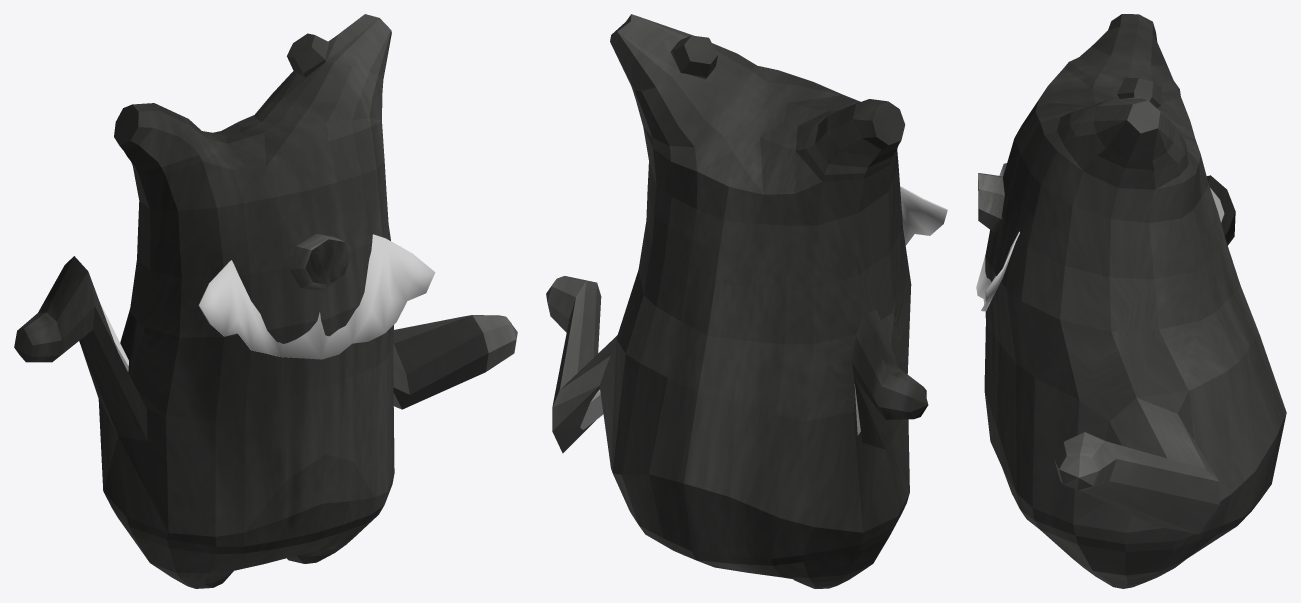
Rendered from frame_0051.obj.
3 renders of one model, left to right at view 1: azimuth 30°, elevation 25°; view 2: azimuth 150°, elevation 25°; view 3: azimuth 270°, elevation 25°, orthographic. The views are drawn at different scales.
Parts seen in each view (by area): view 1: korok, leaf, nose; view 2: korok, leaf; view 3: korok, nose, leaf.
Boxes of the visible parts, bbox=[...] form: korok: bbox=[14, 14, 517, 588]; leaf: bbox=[198, 234, 435, 359]; nose: bbox=[289, 233, 351, 290]; korok: bbox=[546, 14, 928, 588]; leaf: bbox=[900, 186, 947, 245]; korok: bbox=[984, 14, 1286, 588]; nose: bbox=[978, 173, 1004, 233]; leaf: bbox=[976, 163, 1019, 311].
Bounding box in the file's own units: 1.96 × 2.22 × 1.2.
